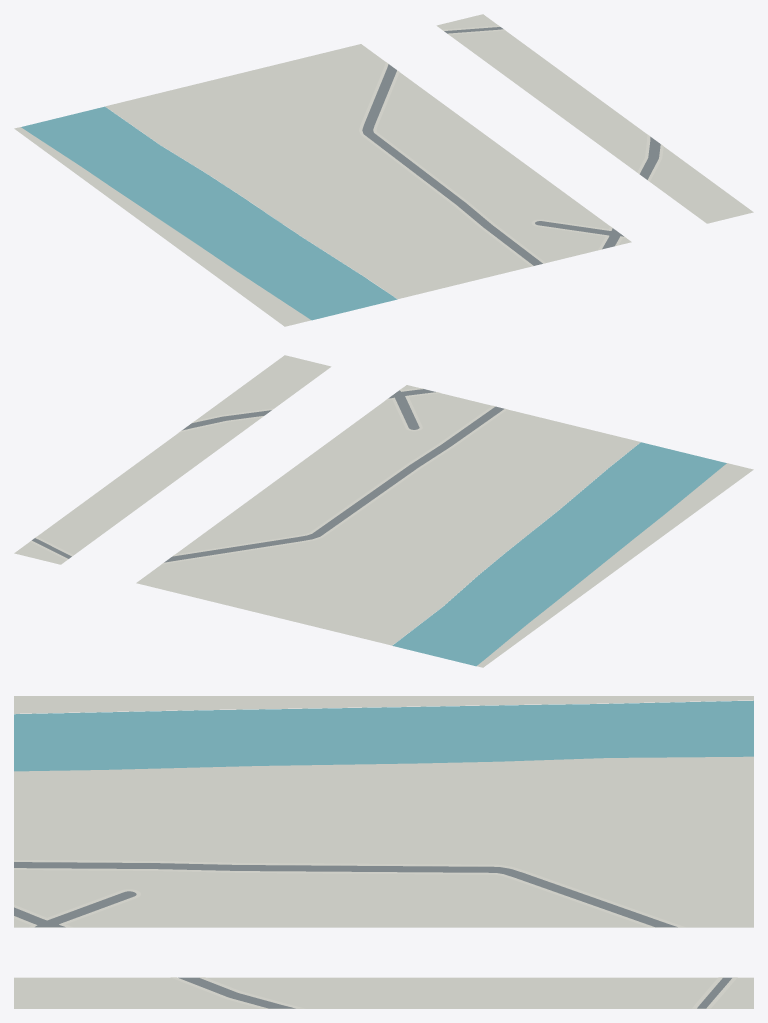
3 views of the same model, one above another, from view 1: azimuth 30°, elevation 25°; view 2: azimuth 150°, elevation 25°; view 3: azimuth 270°, elevation 25° (orthographic). The views are drawn at different scales.
Visible parts, largest first — view 1: city; view 2: city; view 3: city.
Boxes of the visible parts, x1,y1,x2,y2 form: city: (14, 14, 753, 326); city: (14, 355, 753, 667); city: (14, 696, 753, 1008).
Size of the model in its own units: 500 by 0.4 by 500.
